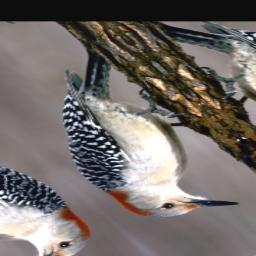Woodpecker: (0, 51, 256, 237)
